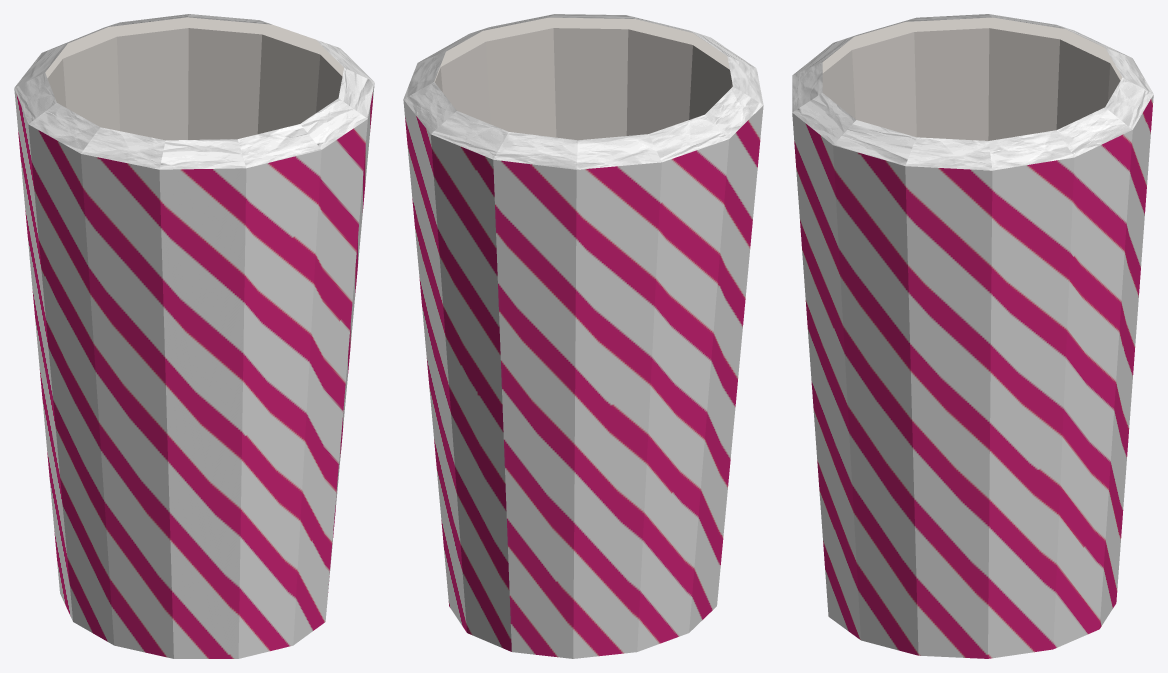
Rendered from Cup.glb.
The picture shows the model from 3 angles, left to right: view 1: azimuth 30°, elevation 25°; view 2: azimuth 150°, elevation 25°; view 3: azimuth 270°, elevation 25°; orthographic projection.
Parts seen in each view (by area): view 1: Cylinder, InnerCup, Lip; view 2: Cylinder, InnerCup, Lip; view 3: Cylinder, InnerCup, Lip.
Boxes of the visible parts, box(x1,y1,x2,y2) form: Cylinder: box(14, 83, 374, 658); InnerCup: box(45, 17, 343, 140); Lip: box(14, 14, 374, 169); Cylinder: box(403, 99, 763, 658); InnerCup: box(434, 17, 732, 140); Lip: box(403, 14, 763, 169); Cylinder: box(792, 95, 1153, 658); InnerCup: box(822, 17, 1122, 140); Lip: box(792, 14, 1153, 170).
Size of the model in its own units: 2.95 by 4.72 by 2.94.
Materials: 3 (2 with a texture image).
